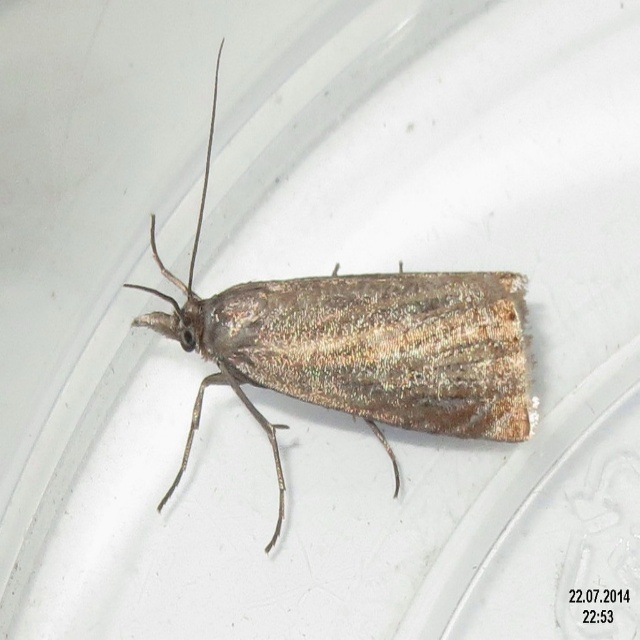Moths and butterflies: (121, 32, 543, 554)
